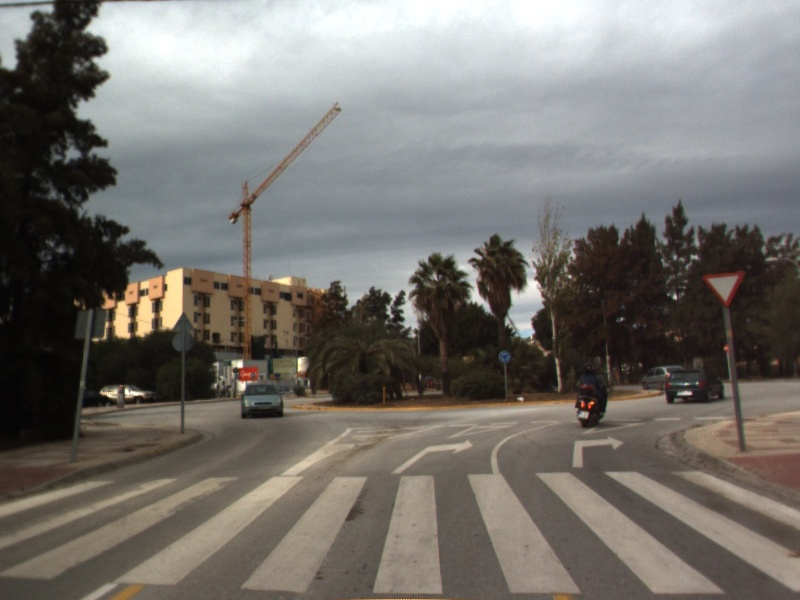RIGHT: (388, 437, 476, 476), (569, 434, 626, 470)
